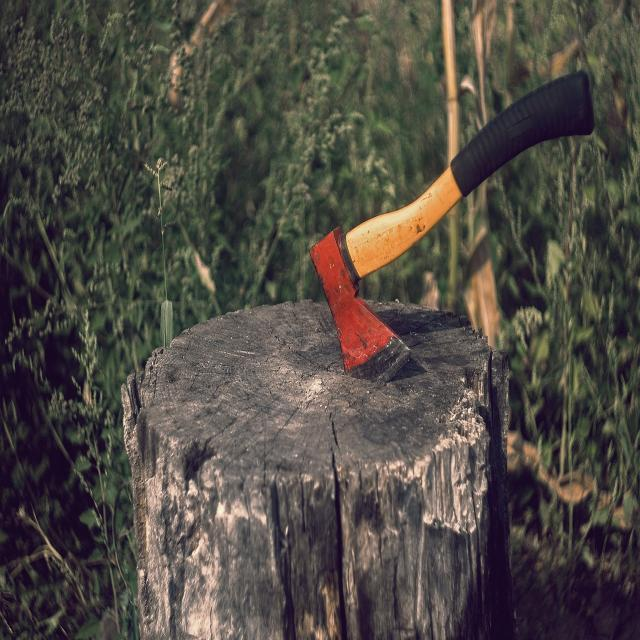Axe: (311, 72, 594, 381)
